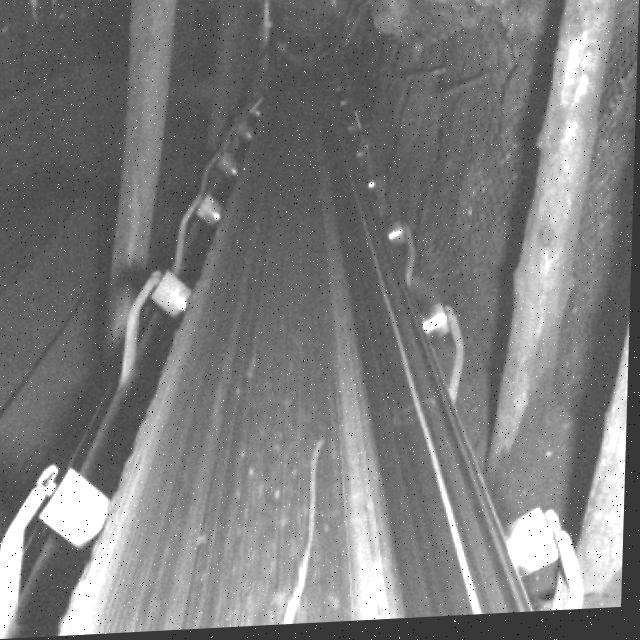bolt: (274, 436, 328, 628)
